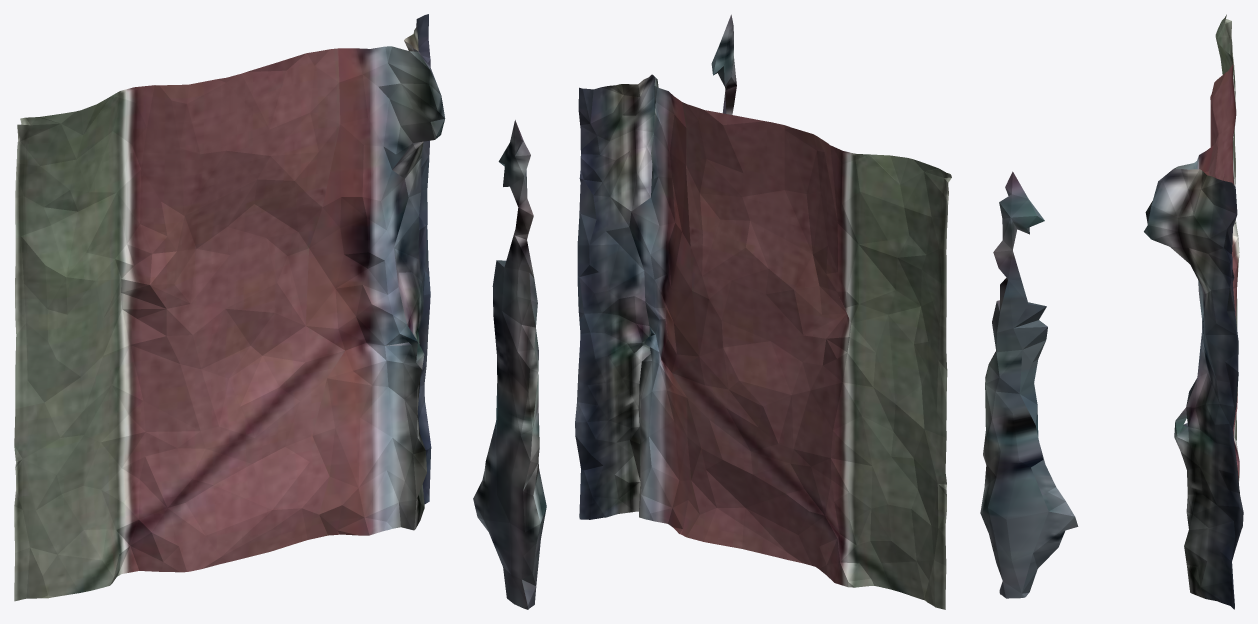
Rendered from tile_5_12_7_tex.obj.
The picture shows the model from 3 angles, left to right: view 1: azimuth 30°, elevation 25°; view 2: azimuth 150°, elevation 25°; view 3: azimuth 270°, elevation 25°; orthographic projection. The views are drawn at different scales.
Visible parts, largest first — view 1: obj_0; view 2: obj_0; view 3: obj_0.
Boxes of the visible parts, left/top/right/bottom form: obj_0: left=14, top=14, right=546, bottom=609; obj_0: left=575, top=14, right=951, bottom=609; obj_0: left=980, top=14, right=1243, bottom=609.
Size of the model in its own units: 5.01 by 5.64 by 3.19.
Materials: 1 (1 with a texture image).
